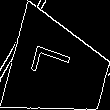L_E: (35, 48, 83, 92)
